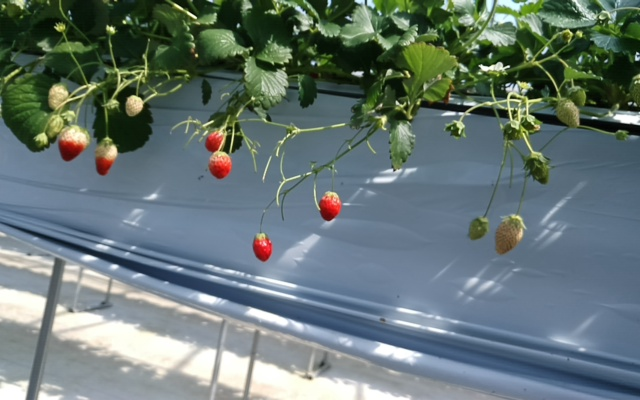GreenStrawberry: (492, 216, 525, 256), (553, 101, 582, 131), (46, 85, 70, 114), (467, 217, 489, 241), (124, 95, 144, 117)
MatureStrawberry: (58, 125, 91, 164), (92, 138, 119, 178), (319, 191, 343, 222), (208, 152, 233, 180), (253, 231, 274, 263), (205, 129, 227, 153)
